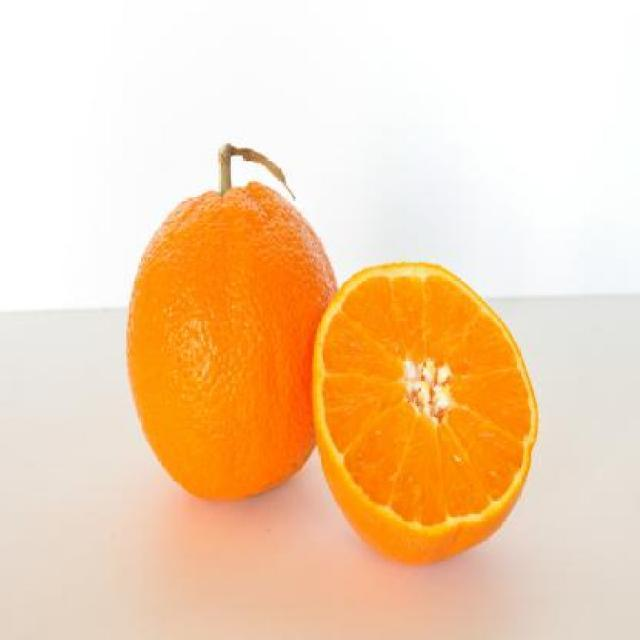Orange: (123, 158, 339, 506), (314, 262, 532, 567)
